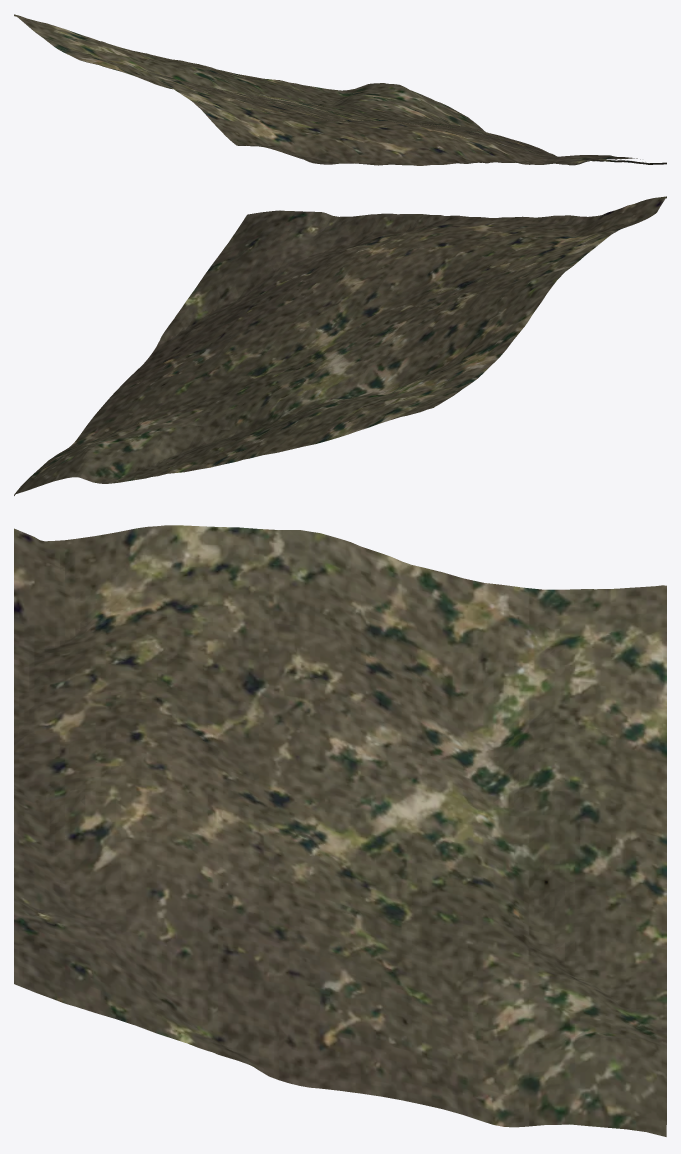
The picture shows the model from 3 angles, top to bottom: view 1: azimuth 30°, elevation 25°; view 2: azimuth 150°, elevation 25°; view 3: azimuth 270°, elevation 25°; orthographic projection. The views are drawn at different scales.
Size of the model in its own units: 250 by 133 by 241.
1 material, 1 textured.
